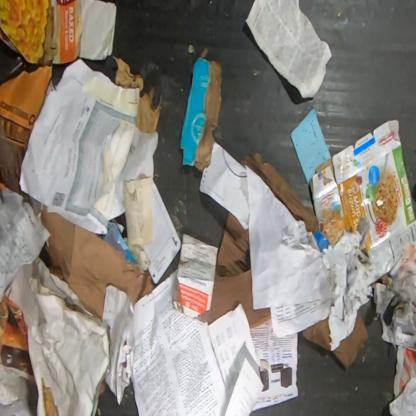cardboard: (311, 117, 416, 277), (41, 210, 155, 321), (195, 212, 272, 328), (241, 154, 320, 235), (180, 57, 222, 174), (333, 310, 370, 371), (136, 87, 162, 134), (113, 56, 144, 92), (302, 315, 331, 351)
